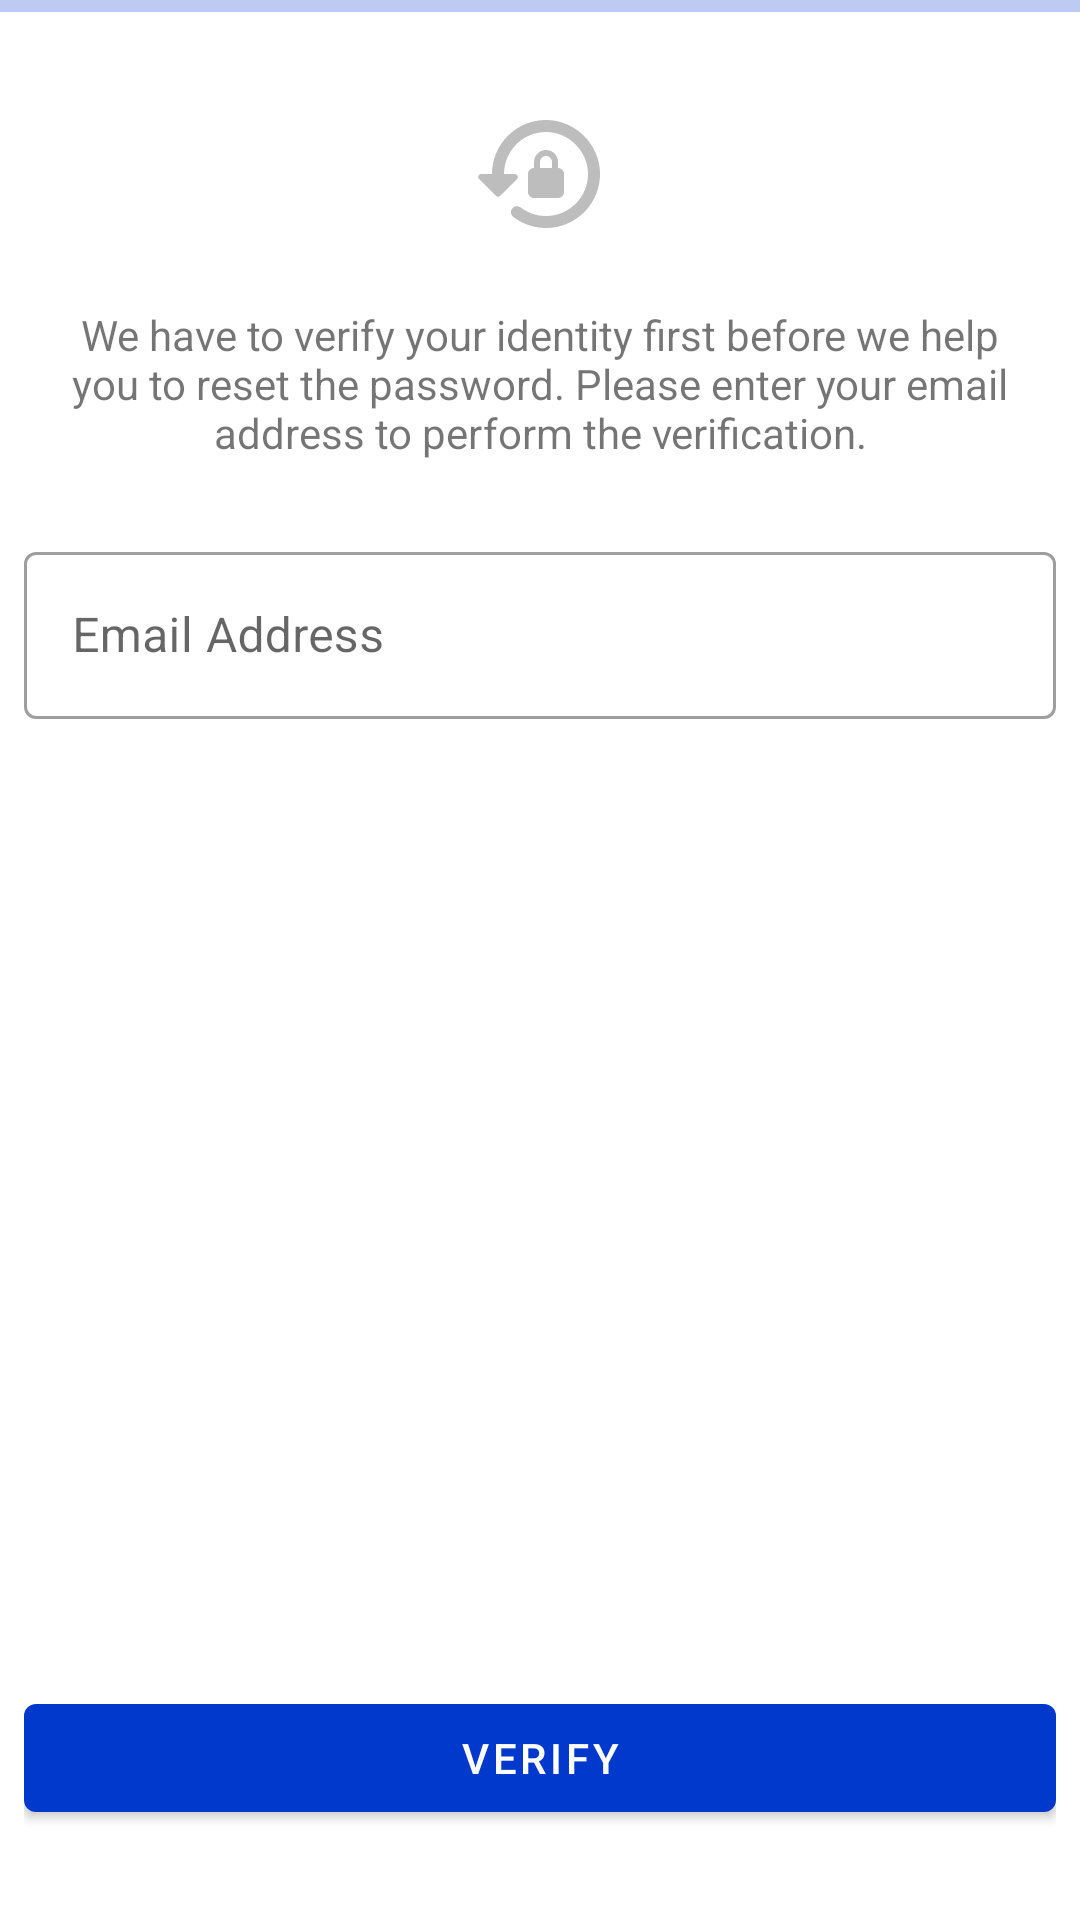

Screen size 1080w x 1920h. Icon name, then its box in pixels as (x1, y1, x2, y2):
lock reset: (478, 120, 600, 228)
